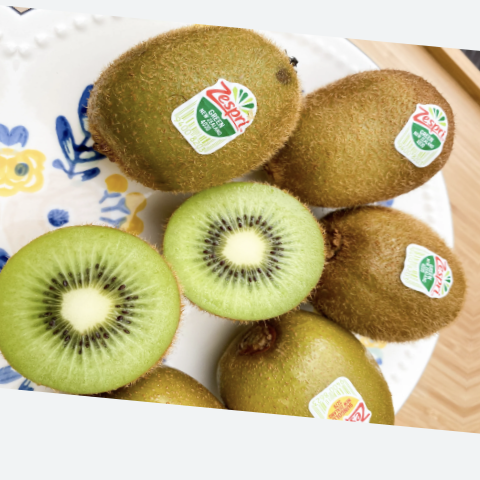kiwi: (80, 6, 326, 226), (251, 58, 480, 218), (295, 190, 480, 364)
